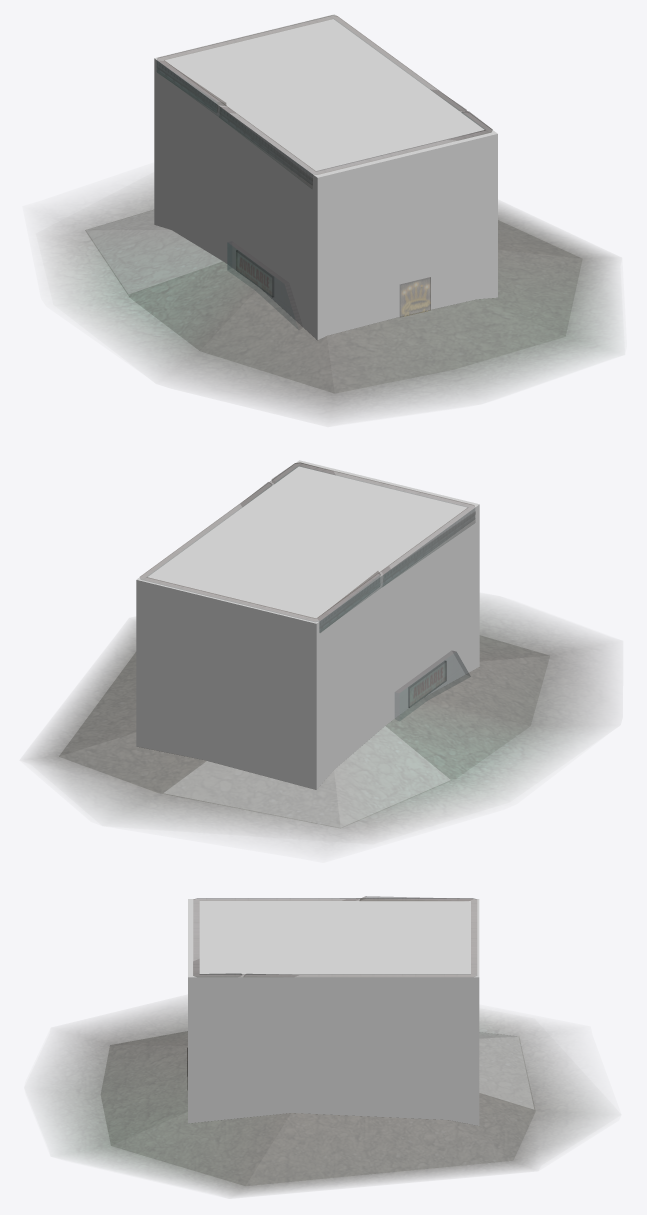
File: source.glb
3 renders of one model, top to bottom at view 1: azimuth 30°, elevation 25°; view 2: azimuth 150°, elevation 25°; view 3: azimuth 270°, elevation 25°, orthographic. The views are drawn at different scales.
Visible parts, largest first — view 1: coll_m206_0, state1_obj_c60a60, state2_obj_c6cd60, state1_coll_m10a_0, state1_coll_m206_0, obj_c5c040, state1_obj_c62040, obj_c5b650, obj_c5dd40, obj_c5d420; view 2: coll_m206_0, state1_obj_c60a60, state1_coll_m10a_0, state2_obj_c6cd60, state1_coll_m206_0, obj_c5c040, state1_obj_c62040, obj_c5b650, obj_c5d420; view 3: coll_m206_0, state1_obj_c60a60, state2_obj_c6cd60, state1_coll_m10a_0, obj_c5c040, state1_obj_c62040.
Part boxes in pixels (<box>): coll_m206_0: <box>154,14,497,340</box>; state1_obj_c60a60: <box>55,190,600,408</box>; state2_obj_c6cd60: <box>86,206,599,403</box>; state1_coll_m10a_0: <box>85,209,582,393</box>; state1_coll_m206_0: <box>154,24,468,336</box>; obj_c5c040: <box>156,15,492,184</box>; state1_obj_c62040: <box>157,61,492,188</box>; obj_c5b650: <box>227,241,302,329</box>; obj_c5dd40: <box>400,278,430,316</box>; obj_c5d420: <box>236,251,272,296</box>; coll_m206_0: <box>136,460,479,789</box>; state1_obj_c60a60: <box>46,615,579,844</box>; state1_coll_m10a_0: <box>59,635,549,828</box>; state2_obj_c6cd60: <box>41,620,584,820</box>; state1_coll_m206_0: <box>136,466,305,644</box>; obj_c5c040: <box>140,463,474,631</box>; state1_obj_c62040: <box>241,462,475,632</box>; obj_c5b650: <box>395,650,470,720</box>; obj_c5d420: <box>410,662,446,706</box>; coll_m206_0: <box>188,899,479,1125</box>; state1_obj_c60a60: <box>65,1013,570,1191</box>; state2_obj_c6cd60: <box>68,1018,575,1191</box>; state1_coll_m10a_0: <box>100,1031,535,1185</box>; obj_c5c040: <box>193,898,476,976</box>; state1_obj_c62040: <box>193,896,471,976</box>.
Bounding box in the file's own units: 549 × 212 × 666.
20 materials, 20 textured.
